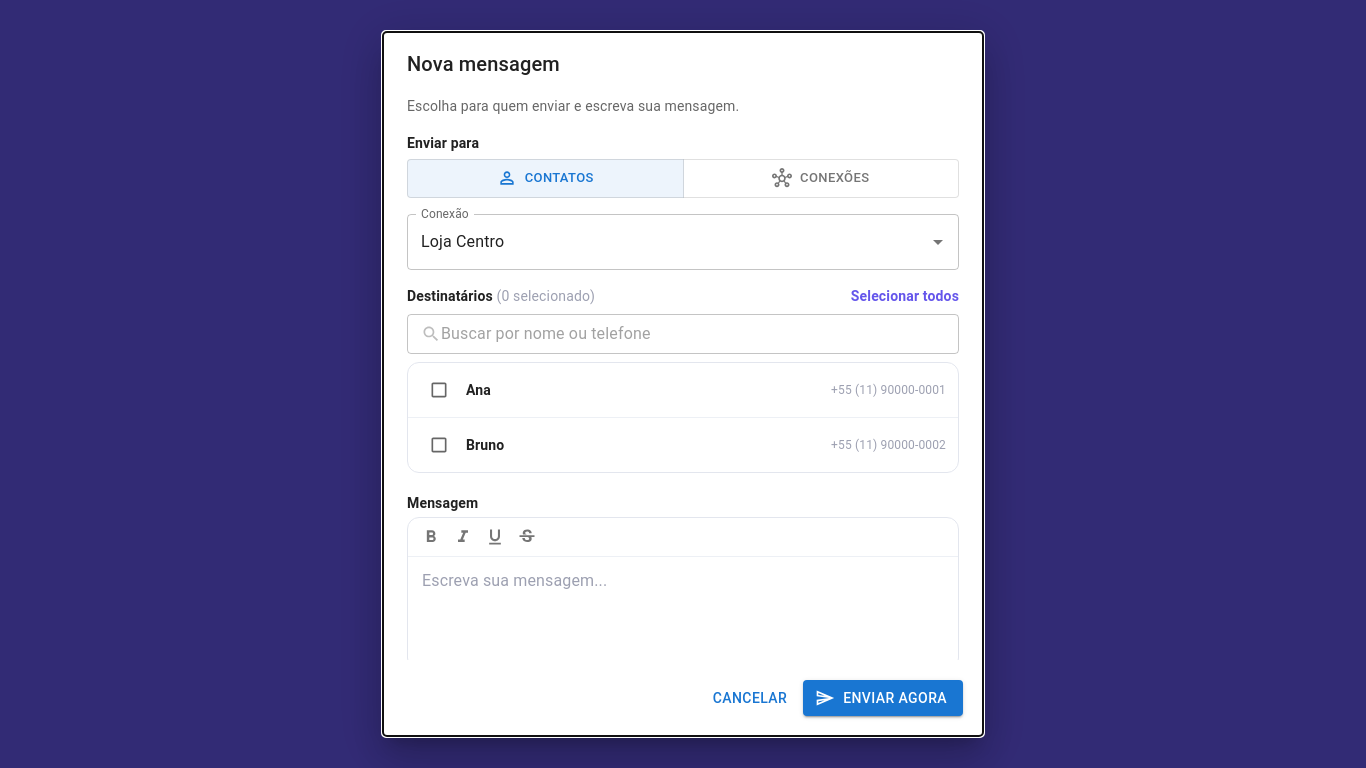
Scenario: MessageDialog — new message › requires a connection when sending to connections
Click the button "Conexões".
click(821, 178)  # box [682, 159, 959, 198]
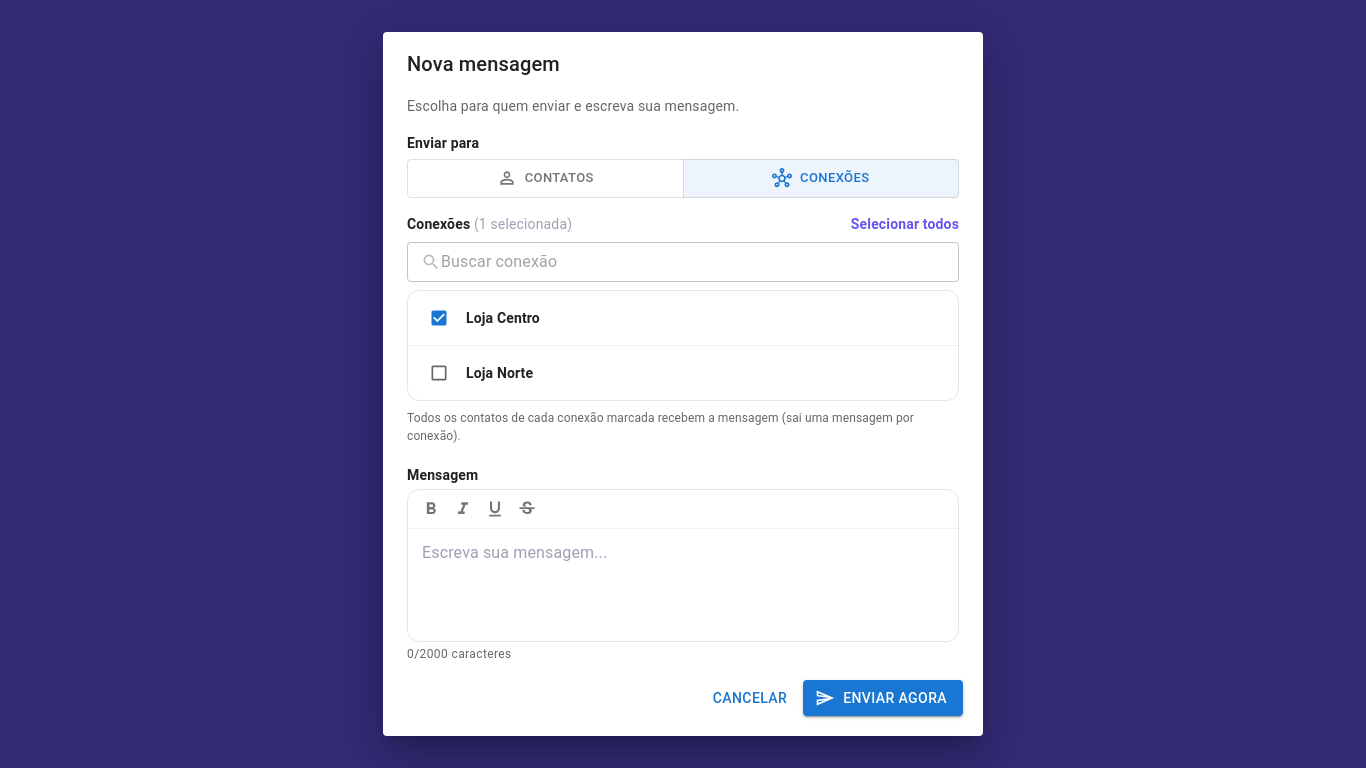
Click the checkbox labelled "Loja Centro".
click(503, 318)  # box [408, 291, 958, 346]
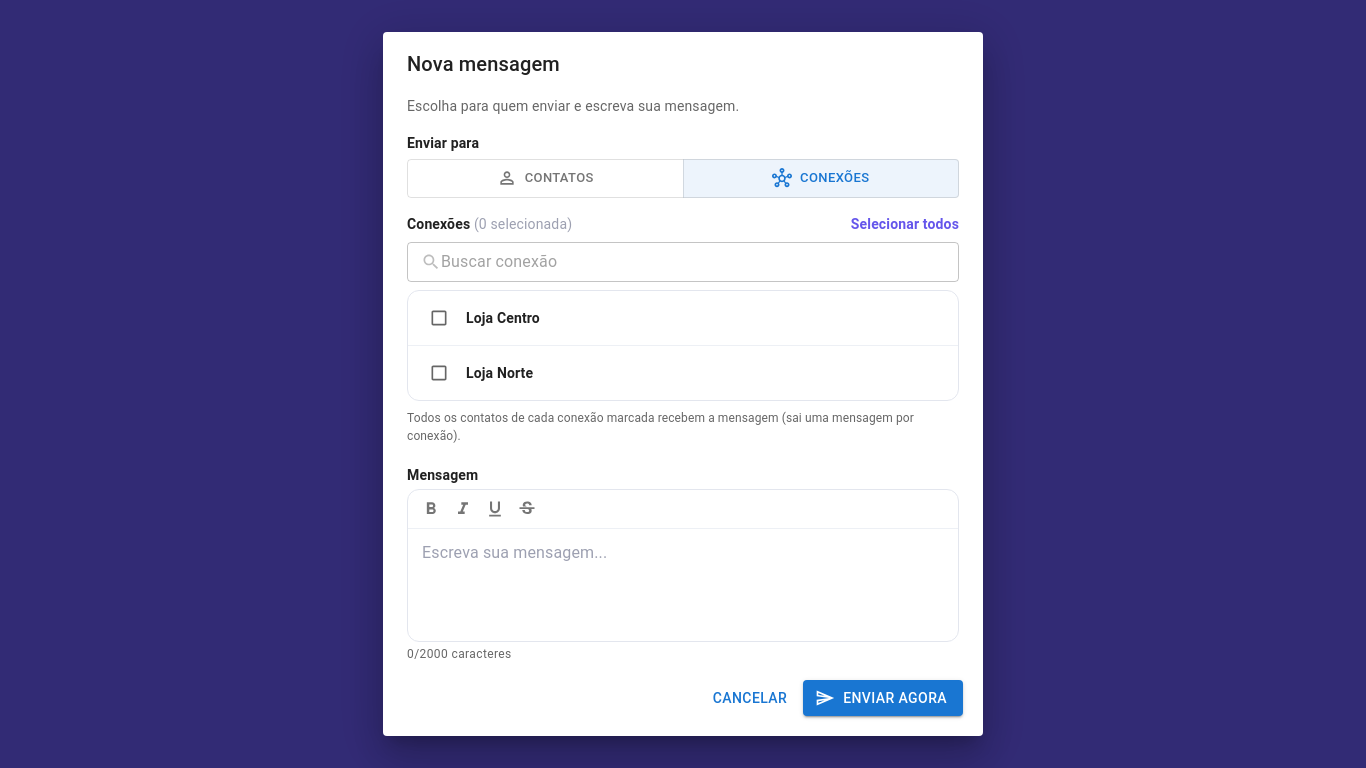
Click the field named "Mensagem".
click(683, 585)  # box [408, 529, 958, 641]
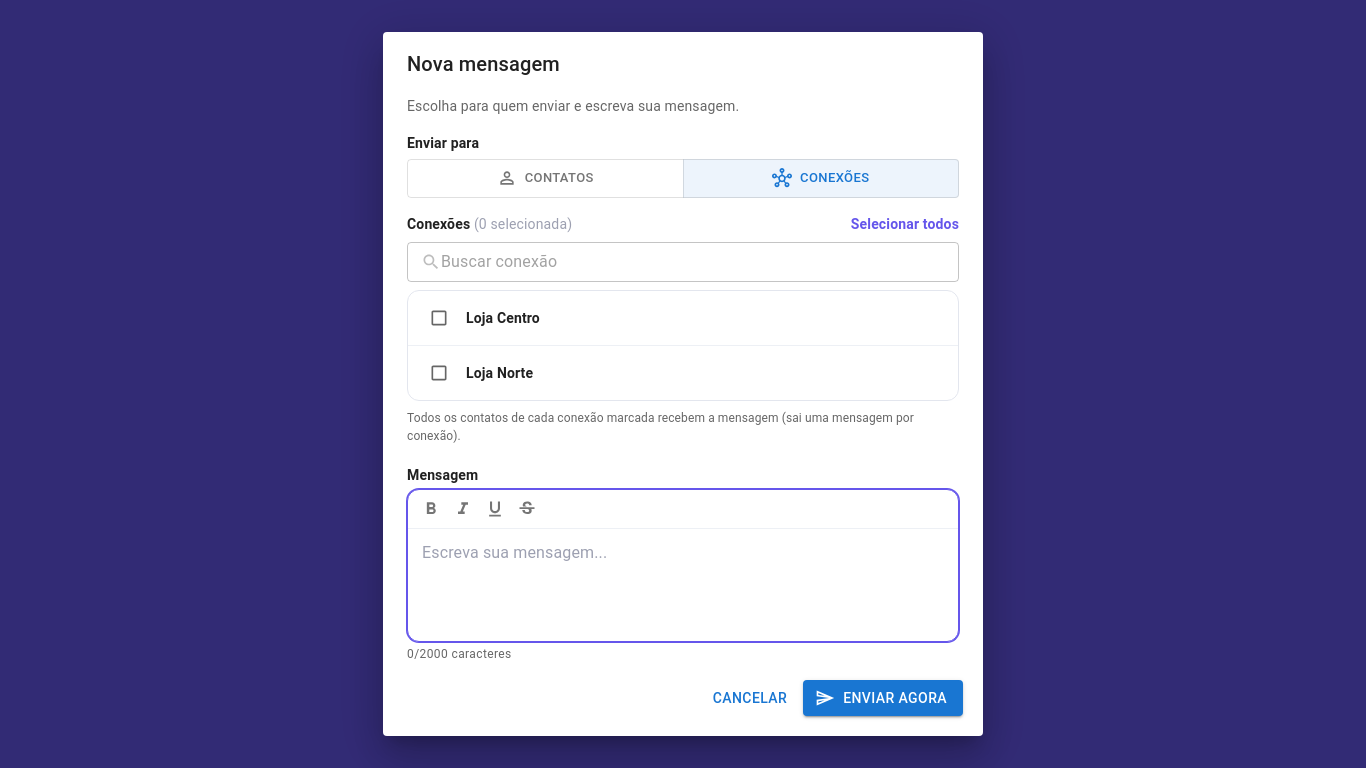
Type keys "Oi"
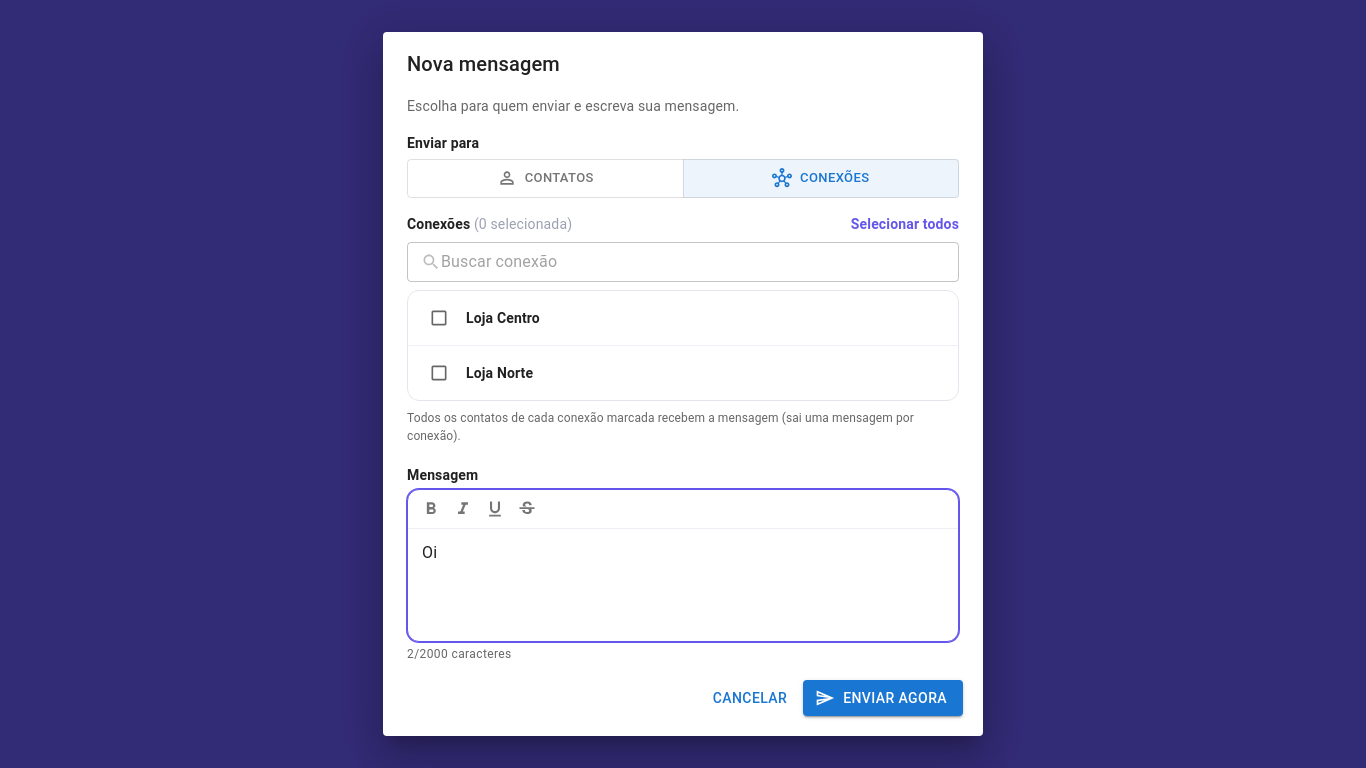
Click the button "Enviar agora".
click(883, 698)  # box [803, 680, 963, 716]
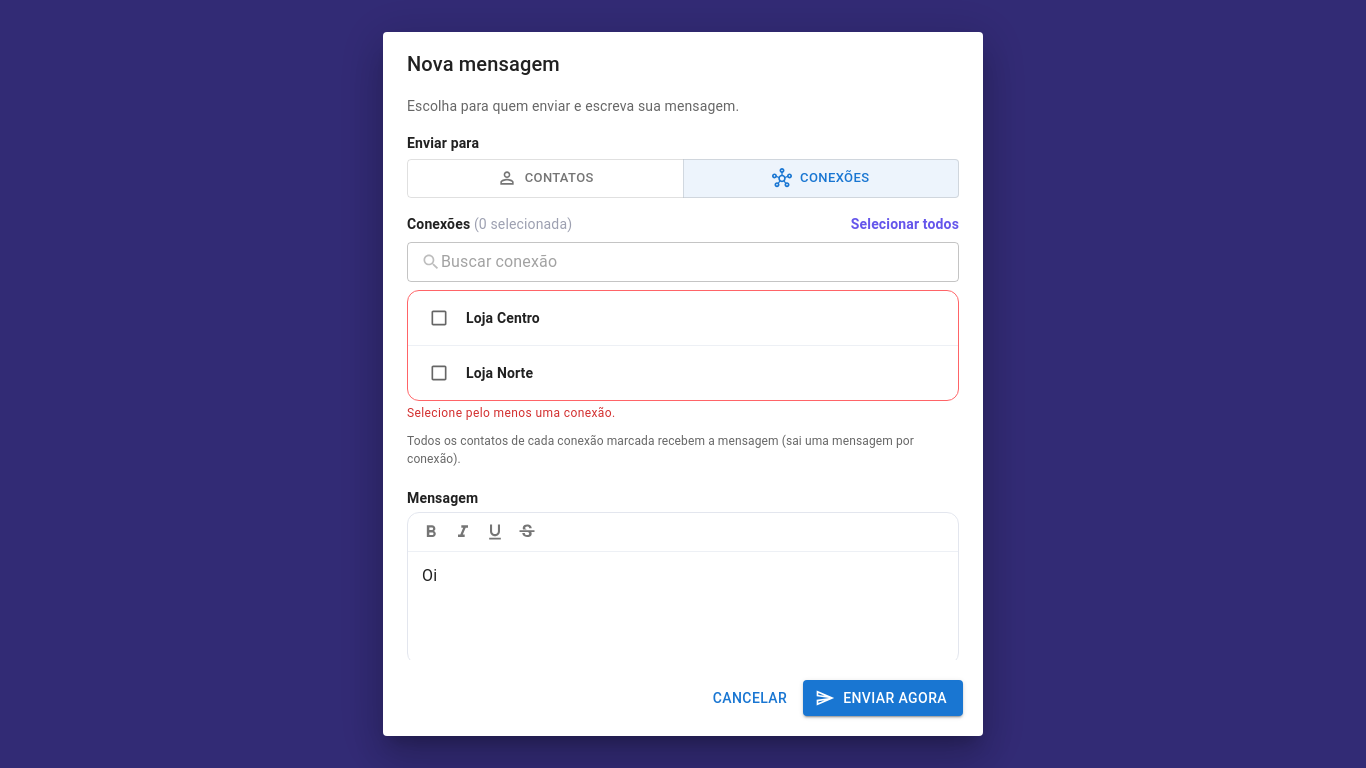
Expected: the text "Selecione pelo menos uma conexão." is shown, [407, 406, 616, 420]
